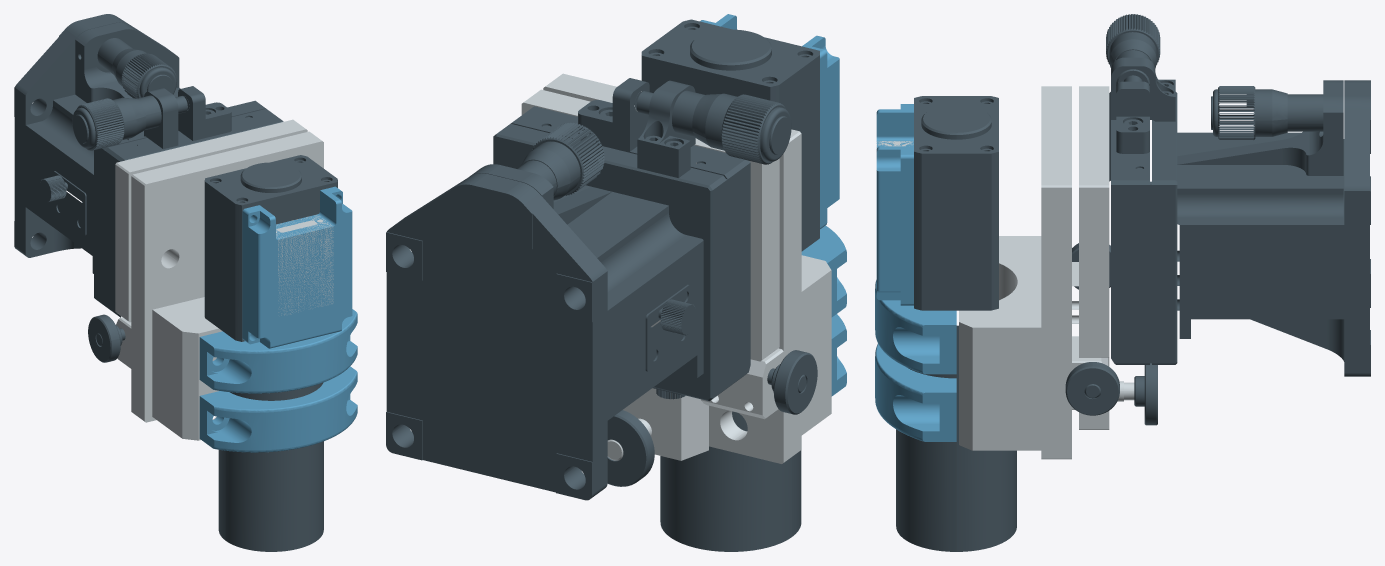
The model's file is AXZ-1032_厂家整套.glb.
The picture shows the model from 3 angles, left to right: view 1: azimuth 30°, elevation 25°; view 2: azimuth 150°, elevation 25°; view 3: azimuth 270°, elevation 25°; orthographic projection. The views are drawn at different scales.
Parts seen in each view (by area): view 1: STEP body 13, STEP body 29, STEP body 34, STEP body 36, STEP body 37, STEP body 32, STEP body 31, STEP body 33, STEP body 28, STEP body 1, STEP body 42, STEP body 11 (+7 smaller); view 2: STEP body 13, STEP body 37, STEP body 36, STEP body 29, STEP body 28, STEP body 30, STEP body 1, STEP body 33, STEP body 34, STEP body 9, STEP body 12, STEP body 11 (+7 smaller); view 3: STEP body 13, STEP body 37, STEP body 33, STEP body 36, STEP body 29, STEP body 28, STEP body 34, STEP body 32, STEP body 31, STEP body 9, STEP body 30, STEP body 11 (+5 smaller).
Boxes of the visible parts, x1,y1,x2,y2 form: STEP body 13: (14, 14, 283, 317); STEP body 29: (116, 131, 323, 422); STEP body 34: (242, 186, 352, 348); STEP body 36: (218, 383, 323, 551); STEP body 37: (204, 155, 337, 341); STEP body 32: (199, 366, 357, 452); STEP body 31: (199, 309, 357, 393); STEP body 33: (152, 297, 222, 440); STEP body 28: (115, 119, 307, 322); STEP body 1: (72, 97, 146, 150); STEP body 42: (276, 215, 333, 315); STEP body 11: (178, 86, 231, 140); STEP body 13: (386, 106, 750, 500); STEP body 37: (641, 19, 819, 251); STEP body 36: (660, 411, 801, 551); STEP body 29: (543, 73, 801, 463); STEP body 28: (521, 89, 779, 460); STEP body 30: (521, 92, 779, 459); STEP body 1: (692, 93, 791, 164); STEP body 33: (801, 255, 831, 435); STEP body 34: (700, 14, 839, 228); STEP body 9: (520, 122, 604, 200); STEP body 12: (637, 80, 695, 177); STEP body 11: (578, 78, 649, 151); STEP body 13: (1109, 80, 1370, 376); STEP body 37: (914, 96, 998, 310); STEP body 33: (959, 236, 1041, 450); STEP body 36: (896, 325, 1016, 551); STEP body 29: (1041, 86, 1107, 459); STEP body 28: (1079, 86, 1134, 429); STEP body 34: (876, 104, 913, 305); STEP body 32: (875, 344, 956, 441); STEP body 31: (875, 280, 956, 374); STEP body 9: (1213, 86, 1287, 139); STEP body 30: (1079, 86, 1109, 428); STEP body 11: (1116, 81, 1149, 153).
Bounding box in the file's own units: 0.0899 × 0.1469 × 0.146.
